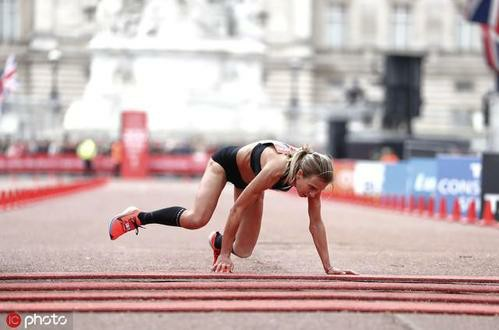fall: (104, 128, 352, 280)
